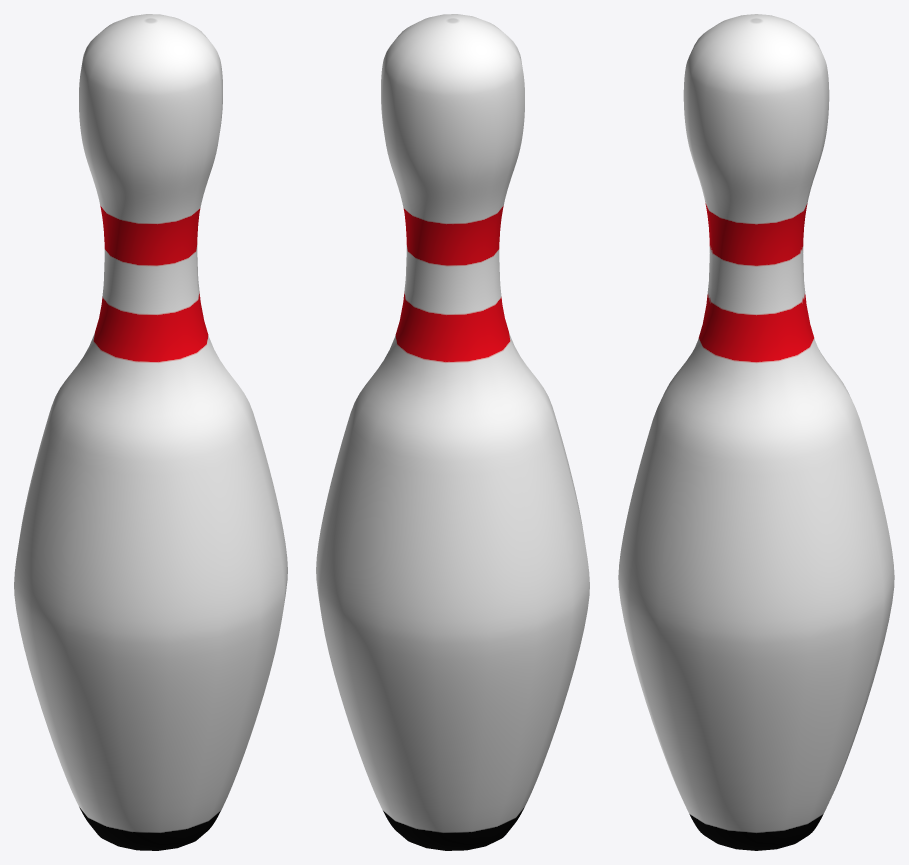
File: bowling-pin.glb
3 renders of one model, left to right at view 1: azimuth 30°, elevation 25°; view 2: azimuth 150°, elevation 25°; view 3: azimuth 270°, elevation 25°, orthographic.
Visible parts, largest first — view 1: Pin; view 2: Pin; view 3: Pin.
Part boxes in pixels (x1,y1,x2,y2): Pin: (14, 14, 287, 850); Pin: (316, 14, 589, 850); Pin: (618, 14, 894, 850).
Bounding box in the file's own units: 1.13 × 3.65 × 1.13.
1 material, 1 textured.
